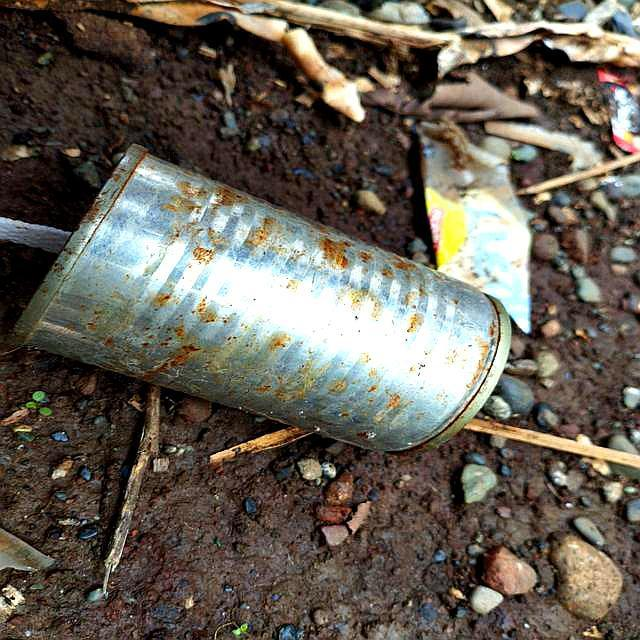Non-biodegradable: (12, 142, 516, 459)
